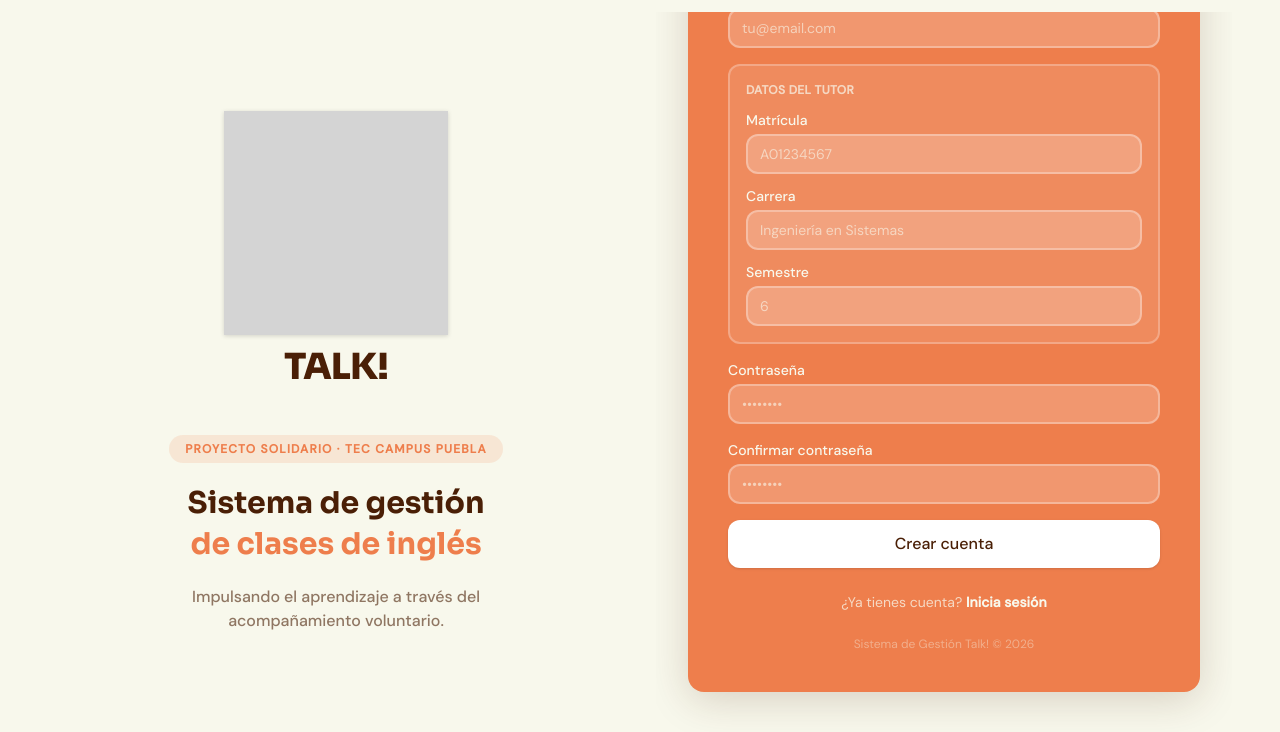
Test: Register Tutor › Empty fields validation and messages
The width and height of the screenshot is (1280, 732).
(page scrolled)
Click the button "Crear cuenta".
click(944, 544)  # box [728,520,1160,568]
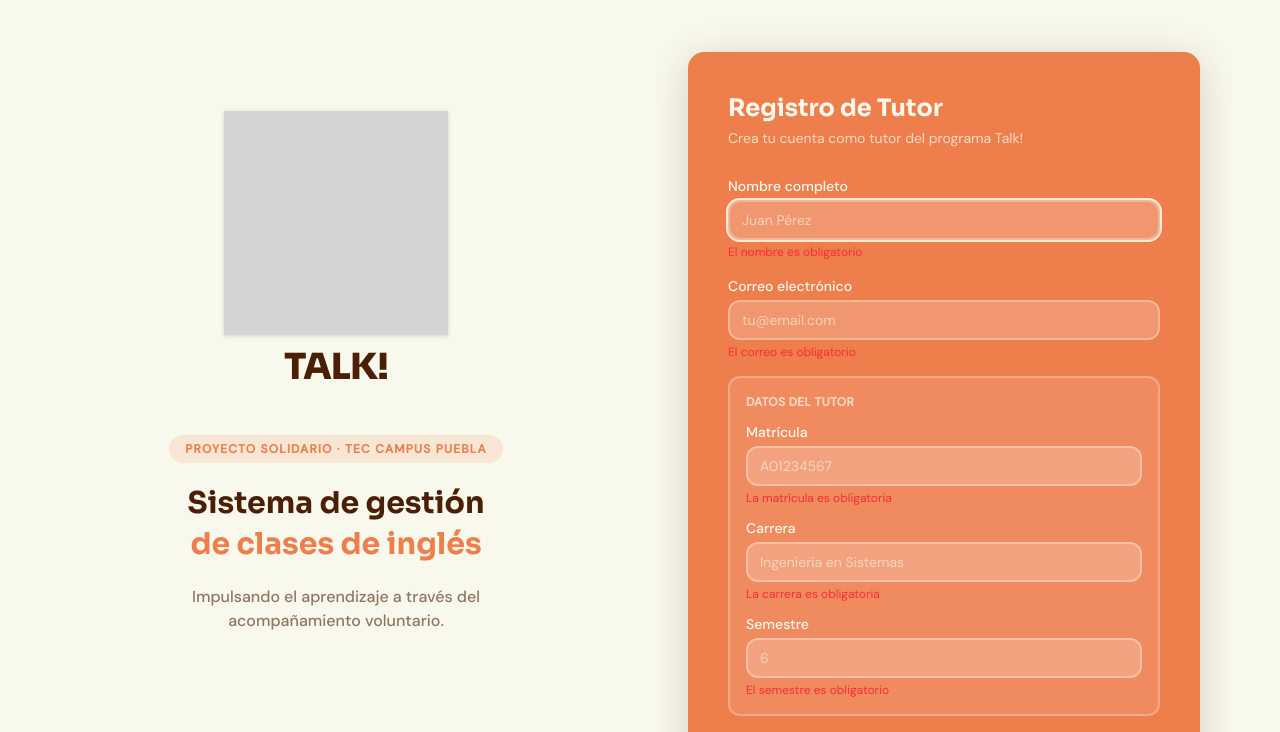
Check: the text "El nombre es obligatorio" is shown, box [728,244,862,260]
Check: the text "El correo es obligatorio" is shown, box [728,344,856,360]
Check: the text "La matrícula es obligatoria" is shown, box [746,490,892,506]
